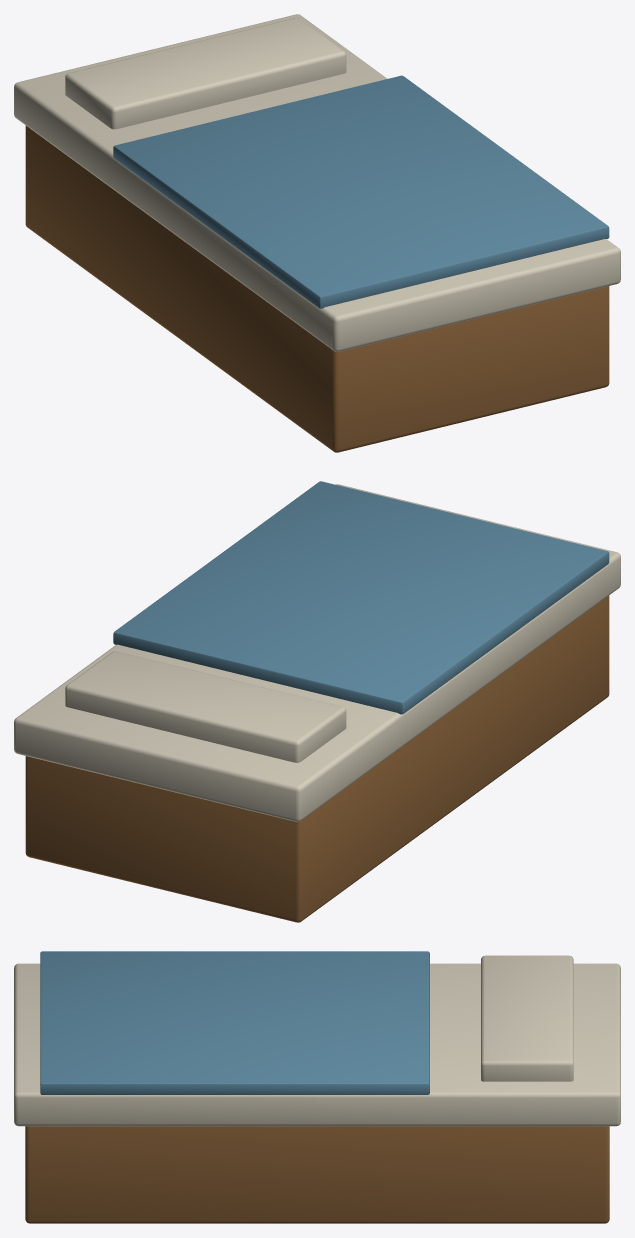
Rendered from exam-couch.glb.
3 views of the same model, one above another, from view 1: azimuth 30°, elevation 25°; view 2: azimuth 150°, elevation 25°; view 3: azimuth 270°, elevation 25° (orthographic). The views are drawn at different scales.
Visible parts, largest first — view 1: exam-couch; view 2: exam-couch; view 3: exam-couch.
Boxes of the visible parts, x1,y1,x2,y2 form: exam-couch: [14, 14, 620, 452]; exam-couch: [14, 481, 620, 922]; exam-couch: [14, 951, 620, 1223].
Bounding box in the file's own units: 2.1 × 1.13 × 4.05.
